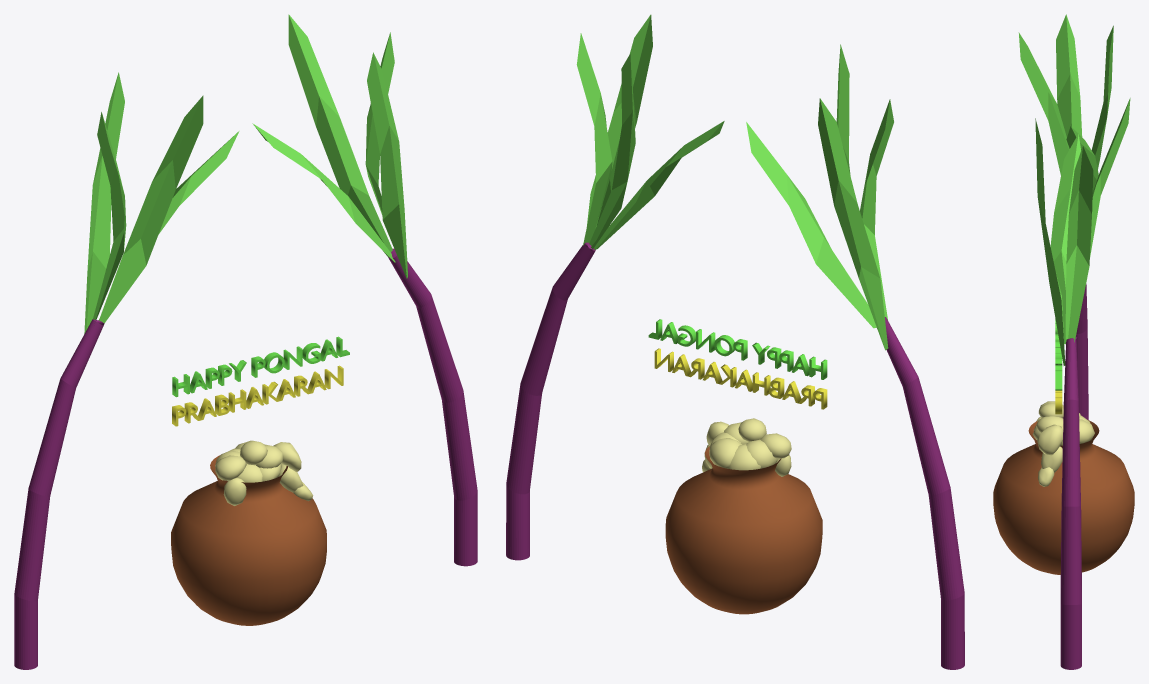
The model's file is pongal.glb.
3 views of the same model, side by side, from view 1: azimuth 30°, elevation 25°; view 2: azimuth 150°, elevation 25°; view 3: azimuth 270°, elevation 25° (orthographic). The views are drawn at different scales.
Visible parts, largest first — view 1: Sphere, Plane.001, Plane, Cylinder.001, Cylinder, Icosphere, Text.001, Text; view 2: Sphere, Plane.001, Plane, Cylinder.001, Cylinder, Icosphere, Text.001, Text; view 3: Sphere, Plane, Cylinder, Plane.001, Icosphere, Cylinder.001, Text.
Boxes of the visible parts, x1=… form: Sphere: x1=171, y1=455, x2=326, y2=625; Plane.001: x1=84, y1=72, x2=239, y2=333; Plane: x1=252, y1=14, x2=407, y2=278; Cylinder.001: x1=14, y1=319, x2=104, y2=669; Cylinder: x1=388, y1=248, x2=477, y2=566; Icosphere: x1=215, y1=440, x2=313, y2=505; Text.001: x1=172, y1=365, x2=343, y2=426; Text: x1=172, y1=336, x2=349, y2=397; Sphere: x1=665, y1=446, x2=822, y2=614; Plane.001: x1=746, y1=44, x2=893, y2=350; Plane: x1=576, y1=14, x2=724, y2=250; Cylinder.001: x1=885, y1=317, x2=964, y2=669; Cylinder: x1=506, y1=242, x2=595, y2=560; Icosphere: x1=702, y1=418, x2=791, y2=476; Text.001: x1=654, y1=348, x2=827, y2=409; Text: x1=648, y1=319, x2=827, y2=379; Sphere: x1=993, y1=420, x2=1134, y2=574; Plane: x1=1035, y1=98, x2=1130, y2=365; Cylinder: x1=1060, y1=337, x2=1081, y2=669; Plane.001: x1=1018, y1=14, x2=1113, y2=192; Icosphere: x1=1032, y1=401, x2=1094, y2=486; Cylinder.001: x1=1076, y1=284, x2=1088, y2=419; Text: x1=1055, y1=319, x2=1062, y2=390.
Size of the model in its own units: 1.32 by 1.55 by 0.3915.
